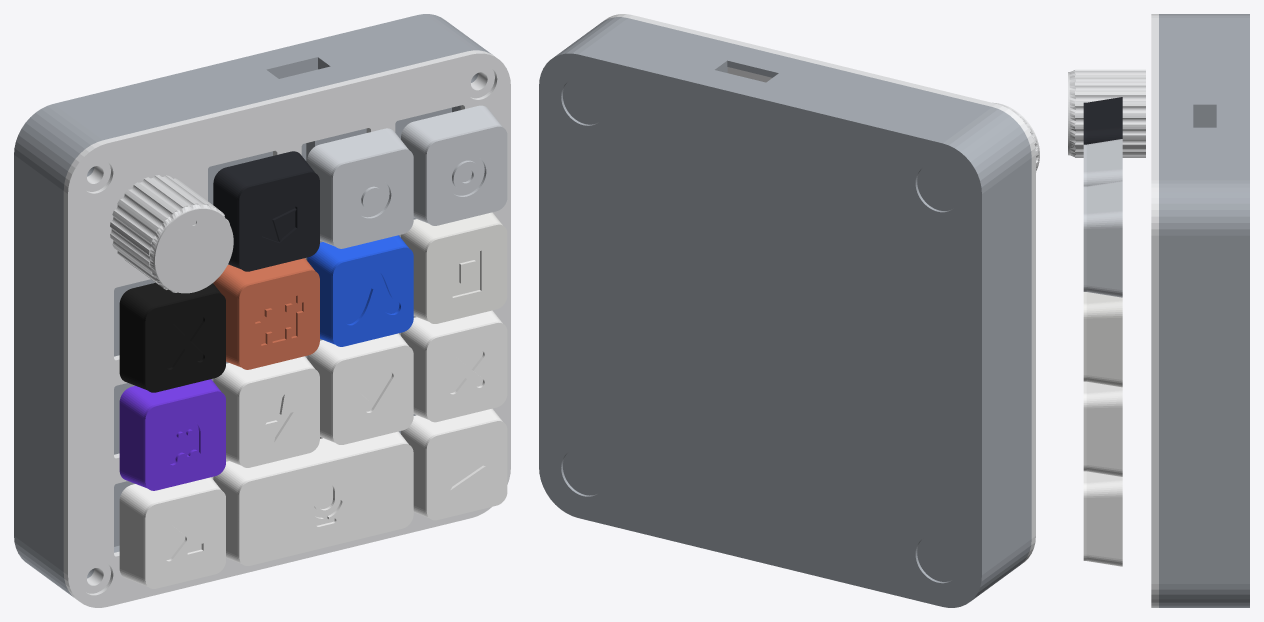
File: orchestrator-pad-assembled.glb
3 views of the same model, side by side, from view 1: azimuth 30°, elevation 25°; view 2: azimuth 150°, elevation 25°; view 3: azimuth 270°, elevation 25° (orthographic). The views are drawn at different scales.
Visible parts, largest first — view 1: plate, tray, voice, knob, prompt, kiro, codex, preset3, preset2, cursor, reject, opencode (+5 smaller); view 2: tray, plate; view 3: tray, plate, knob, preset3, opencode, reject, send, cursor, preset2.
Part boxes in pixels (bbox=[...]): plate: bbox=[63, 50, 510, 607]; tray: bbox=[14, 14, 492, 597]; voice: bbox=[213, 431, 413, 565]; knob: bbox=[110, 175, 233, 293]; prompt: bbox=[119, 477, 225, 588]; kiro: bbox=[119, 379, 225, 490]; codex: bbox=[119, 282, 225, 392]; preset3: bbox=[401, 105, 507, 225]; preset2: bbox=[307, 128, 413, 248]; cursor: bbox=[213, 151, 319, 271]; reject: bbox=[401, 310, 507, 422]; opencode: bbox=[401, 212, 507, 323]; tray: bbox=[539, 17, 1031, 607]; plate: bbox=[603, 14, 1035, 564]; tray: bbox=[1159, 14, 1249, 607]; plate: bbox=[1151, 14, 1158, 607]; knob: bbox=[1068, 69, 1145, 157]; preset3: bbox=[1083, 180, 1122, 297]; opencode: bbox=[1083, 292, 1122, 387]; reject: bbox=[1083, 381, 1122, 476]; send: bbox=[1083, 471, 1122, 566]; cursor: bbox=[1083, 97, 1122, 144]; preset2: bbox=[1083, 139, 1122, 186].
Size of the model in its own units: 90 by 90 by 35.
